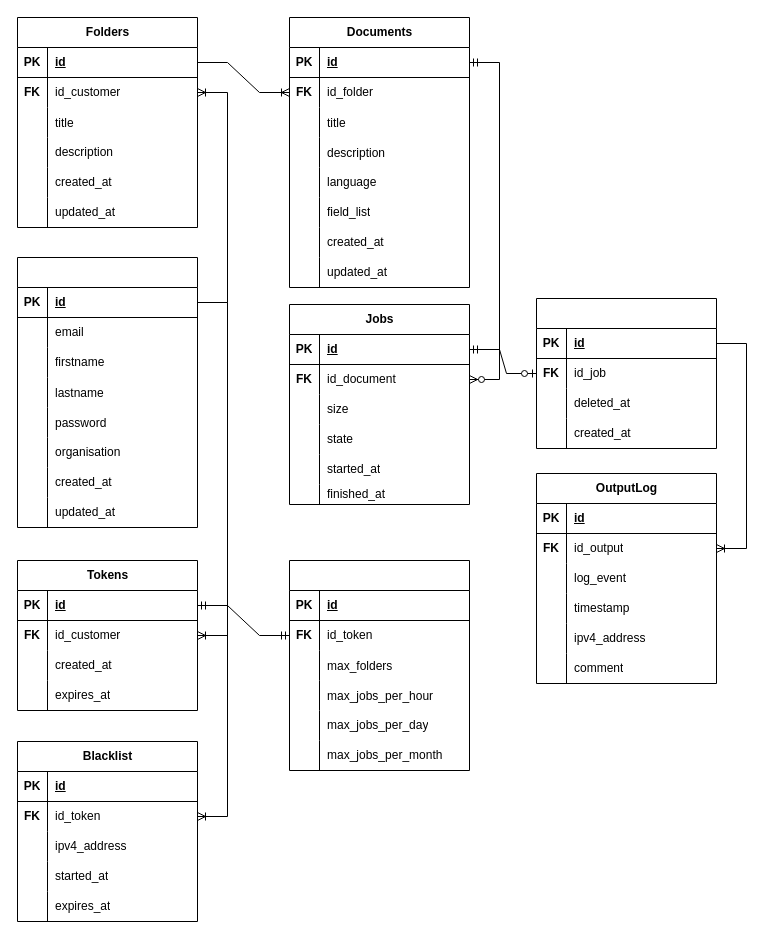
The diagram is 772 pixels wide and 939 high, and some of its shapes have lost their labels. The box of each missing label's shape, as (x1, y1, x2, y2) in pixels:
Customers: (16, 256, 198, 528)
Limits: (288, 560, 470, 770)
Outputs: (536, 298, 716, 448)
